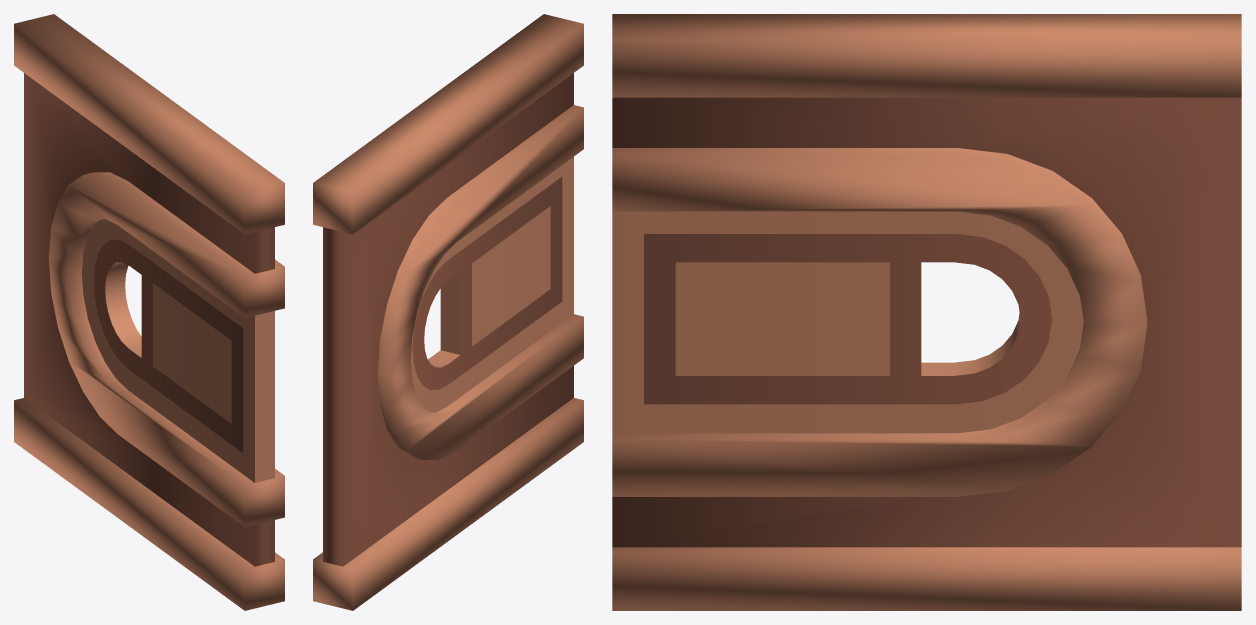
Rendered from wall-wood-door.glb.
3 renders of one model, left to right at view 1: azimuth 30°, elevation 25°; view 2: azimuth 150°, elevation 25°; view 3: azimuth 270°, elevation 25°, orthographic. The views are drawn at different scales.
Visible parts, largest first — view 1: wall-wood-door; view 2: wall-wood-door; view 3: wall-wood-door.
Boxes of the visible parts, x1=… form: wall-wood-door: x1=14, y1=14, x2=284, y2=610; wall-wood-door: x1=313, y1=14, x2=583, y2=610; wall-wood-door: x1=612, y1=14, x2=1241, y2=610.
Size of the model in its own units: 0.2 by 2 by 2.
1 material, 1 textured.
